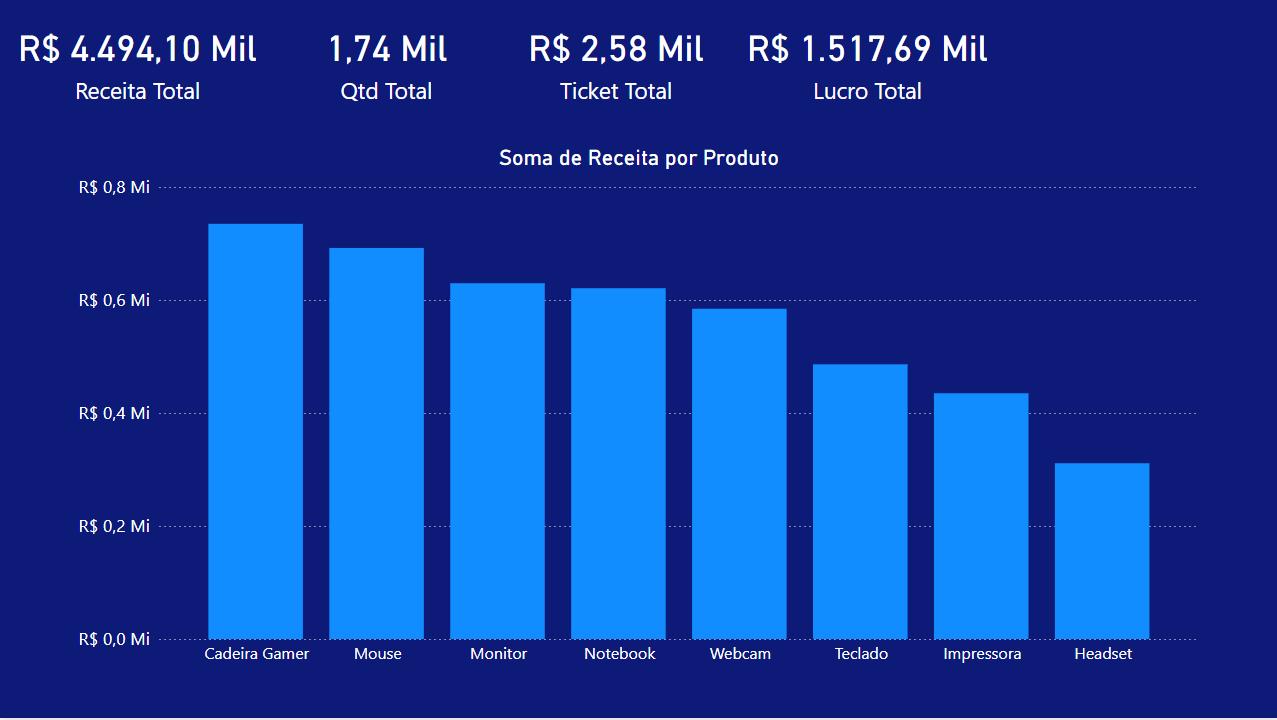

This screenshot's page, from the dashboard's own definition file:
{"tool":"powerbi","page":{"name":"Página 1","canvas":[1280,720],"ordinal":0},"visuals":[{"type":"card","fields":{"Values":["Medidas.Receita Total"]},"box":[0,0,274.8,122.9],"z":0},{"type":"card","fields":{"Values":["Medidas.Qtd Total"]},"box":[274.8,0,223.6,122.9],"z":1000},{"type":"card","fields":{"Values":["Medidas.Ticket Total"]},"box":[501.8,0,228.7,122.9],"z":2000},{"type":"card","fields":{"Values":["Medidas.Lucro Total"]},"box":[730.5,0,274.8,122.9],"z":3000},{"type":"clusteredColumnChart","fields":{"Category":["Vendas.Produto"],"Y":["Sum(Vendas.Receita)"]},"box":[73.4,146.8,1131.5,529.1],"z":4000}]}

Visuals, with their boxes in screenshot pixels (x1, y1, x2, y2), scaled from the page's 1280x720 canvas onto the 1277x720 screenshot:
card - Medidas.Receita Total: detection(0, 0, 274, 123)
card - Medidas.Qtd Total: detection(274, 0, 497, 123)
card - Medidas.Ticket Total: detection(501, 0, 729, 123)
card - Medidas.Lucro Total: detection(729, 0, 1003, 123)
clusteredColumnChart - Vendas.Produto x Sum(Vendas.Receita): detection(73, 147, 1202, 676)
